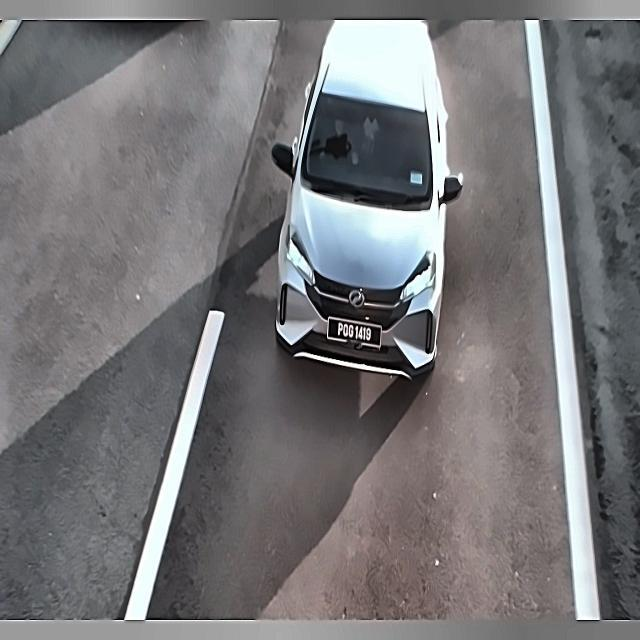car: (322, 311, 389, 354)
